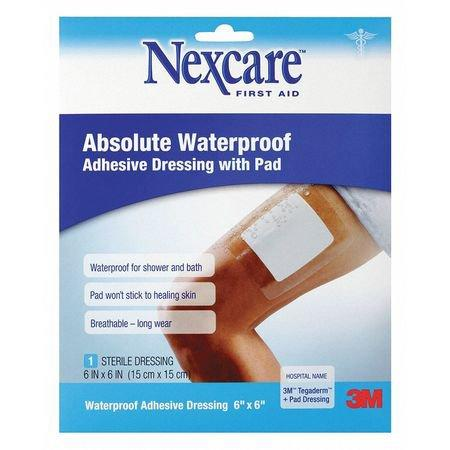bandage: (54, 8, 398, 441)
